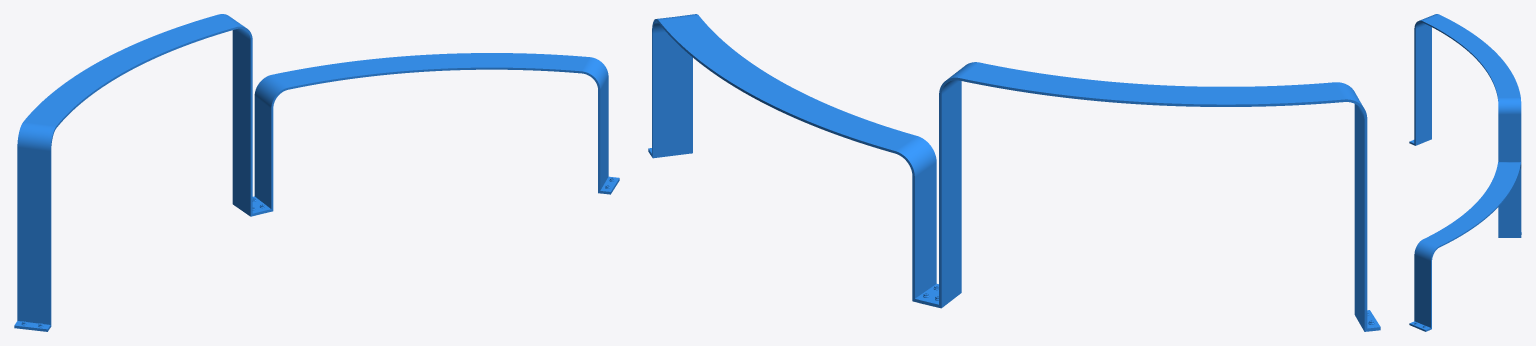
3 renders of one model, left to right at view 1: azimuth 30°, elevation 25°; view 2: azimuth 150°, elevation 25°; view 3: azimuth 270°, elevation 25°, orthographic. The views are drawn at different scales.
Bounding box in the file's own units: 2.42 × 0.74 × 0.5862.
